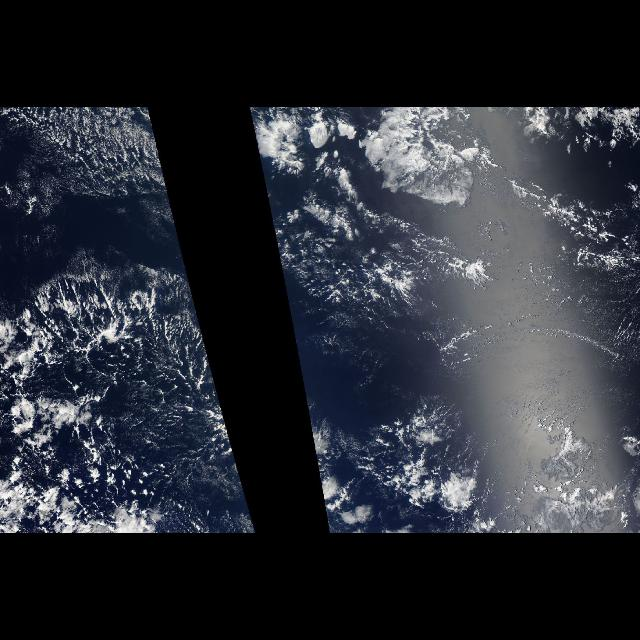Fish: (14, 249, 222, 411)
Flower: (249, 111, 497, 213), (308, 416, 510, 530)
Sugar: (13, 112, 180, 240)
